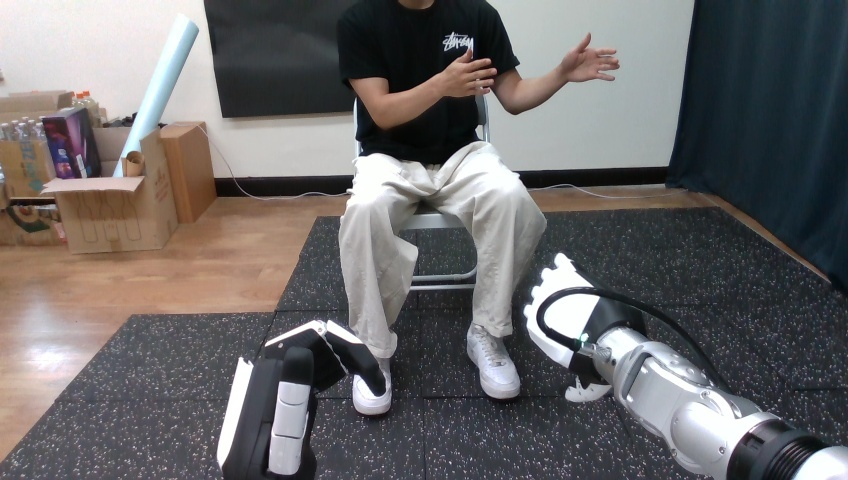left robot hand: (524, 253, 847, 479), (217, 320, 388, 478), (432, 48, 496, 96), (558, 33, 619, 83)
